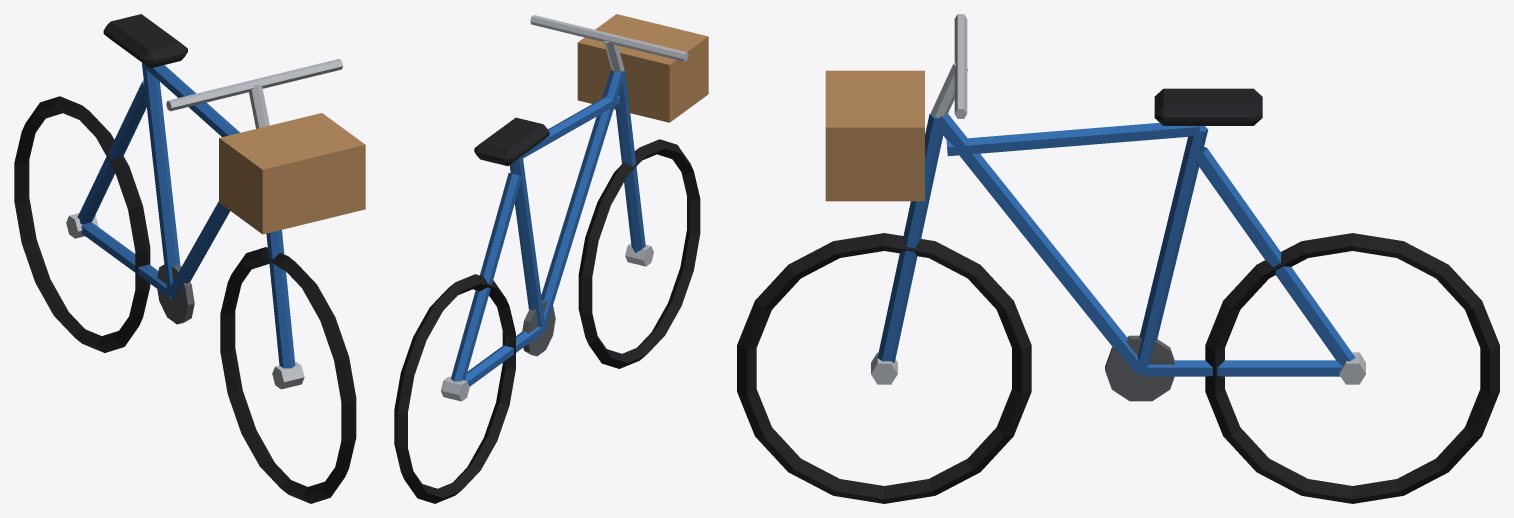
File: VEH_Bicycle.fbx
3 views of the same model, side by side, from view 1: azimuth 30°, elevation 25°; view 2: azimuth 150°, elevation 25°; view 3: azimuth 270°, elevation 25° (orthographic). The views are drawn at different scales.
Parts seen in each view (by area): view 1: VEH_Bicycle; view 2: VEH_Bicycle; view 3: VEH_Bicycle.
Part boxes in pixels (x1,y1,x2,y2): VEH_Bicycle: (14,14,365,503); VEH_Bicycle: (394,14,708,503); VEH_Bicycle: (737,14,1499,503).
Bounding box in the file's own units: 0.5 × 1.08 × 1.69.
